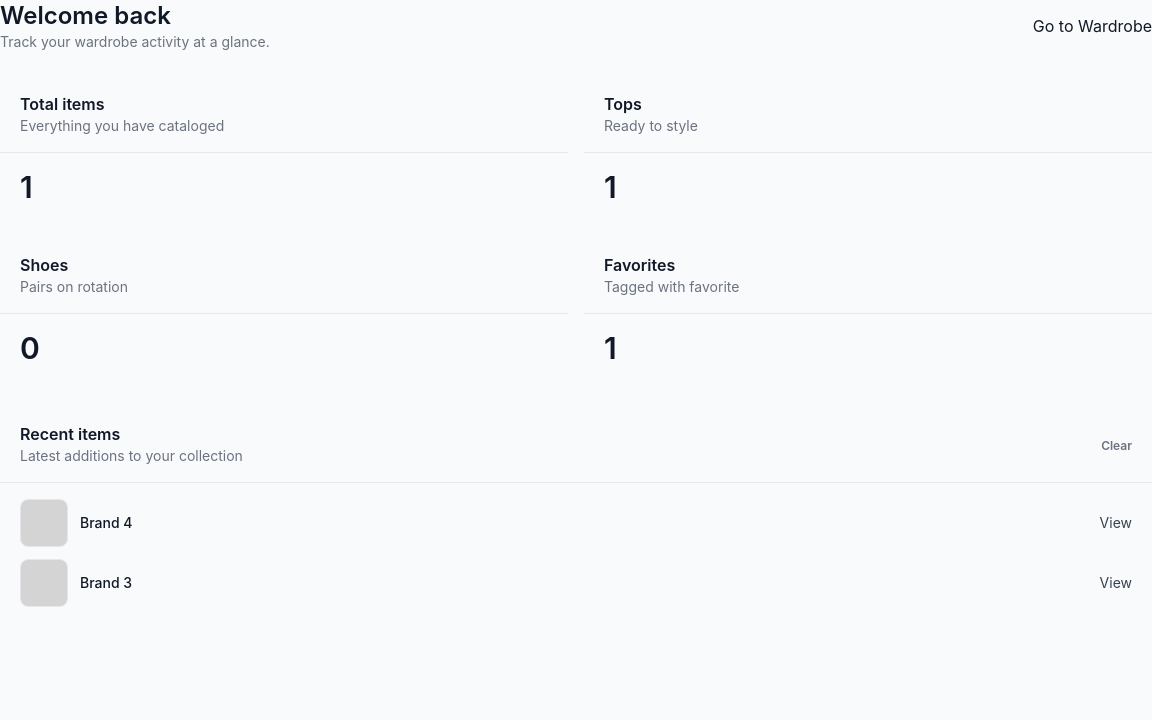
Test case: Dashboard › clears the recent list until refresh and refetches with createdSince
Check: the text "Brand 4" is shown, box [80,513,132,533]
Click the button "Clear": (1117, 446) [1101,438,1132,454]
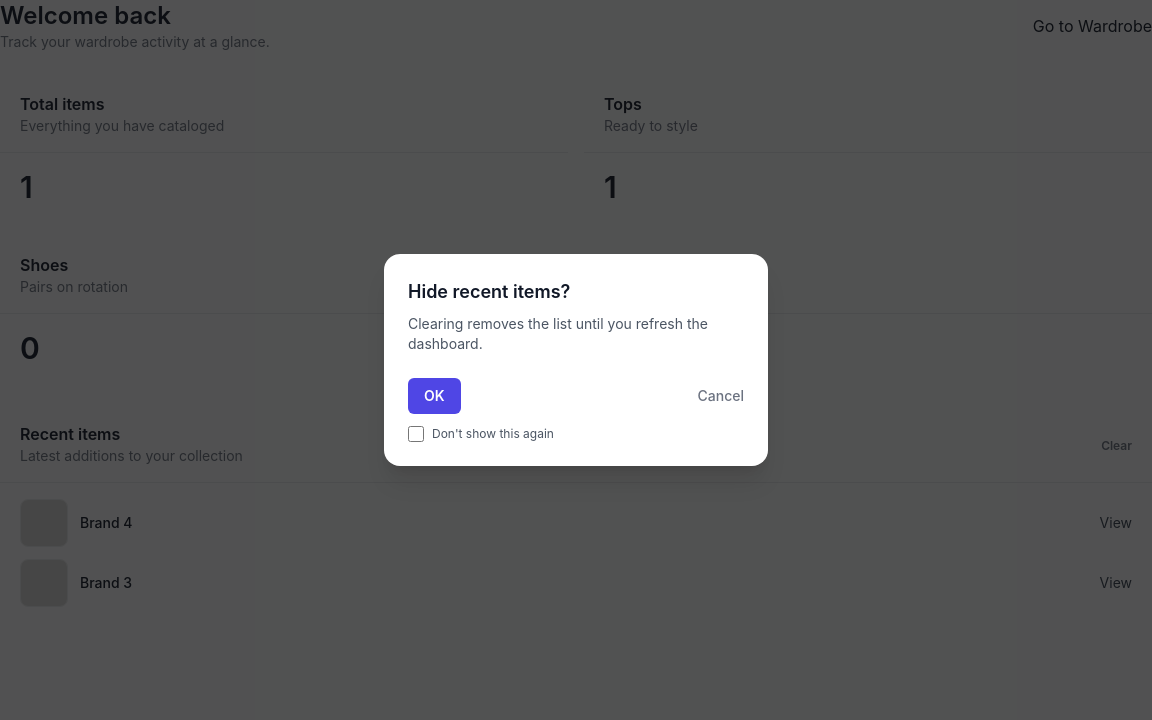
Click the button "OK": (434, 396) [408,378,461,414]
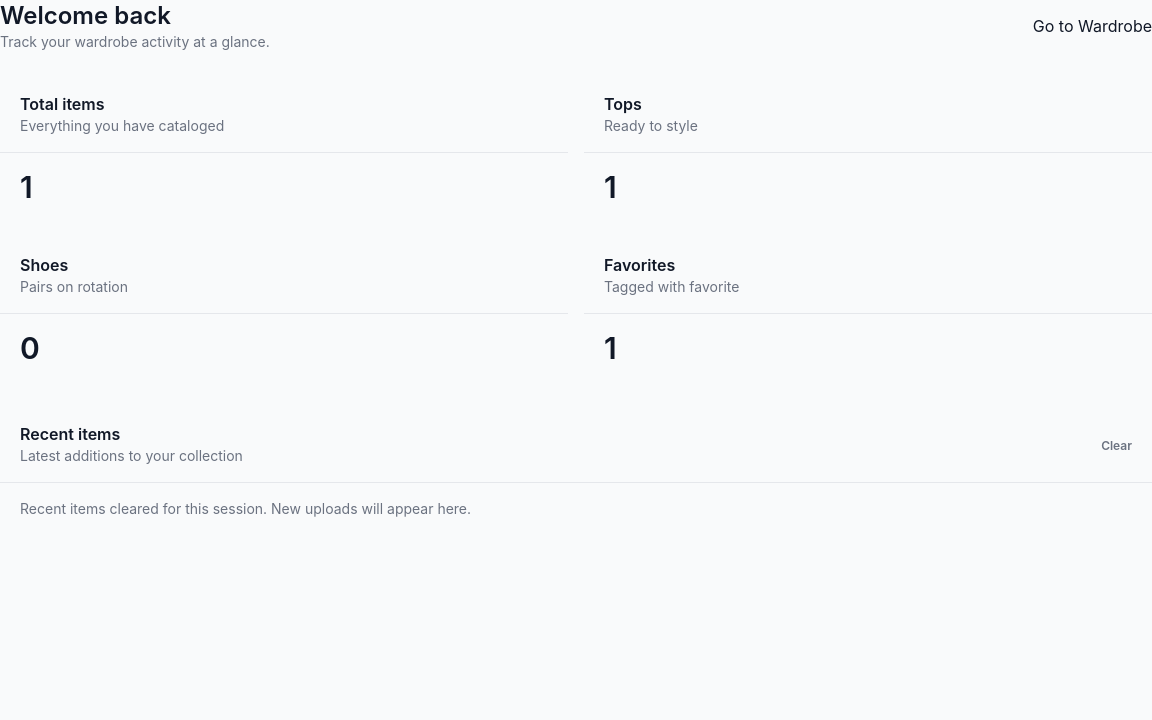
Check: the text "Recent items cleared for this session. New uploads will appear here." is shown, box [20,500,471,517]
